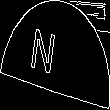N_S: (40, 26, 70, 84)
